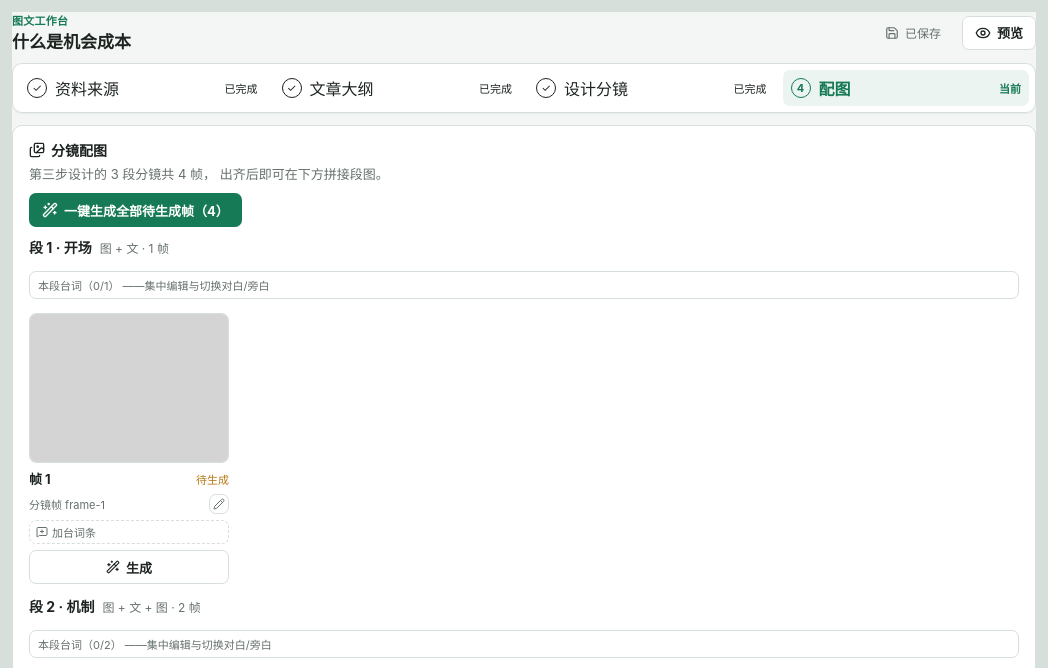
Test: ArticleWorkspace › 摊开批量生成的逐张失败原因（接口是扁平回执，不是嵌套 batch）
Click the button "一键生成全部待生成帧（4）": (135, 210) [29,193,242,227]
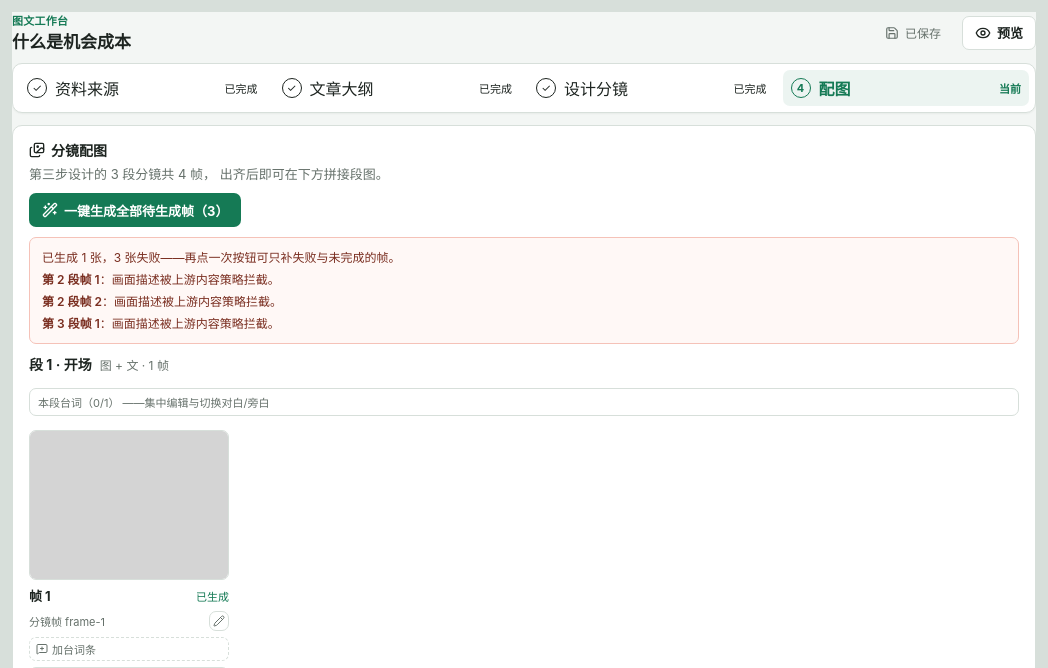
Now the text "已生成 1 张，3 张失败——再点一次按钮可只补失败与未完成的帧。" is shown, box [42,250,400,265]
Now the text "第 2 段帧 1" is shown, box [42,272,100,287]
Now the number of list items "第 2 段帧 1：画面描述被上游内容策略拦截。" is 3, box [42,272,280,287]; [42,294,282,309]; [42,316,280,331]
